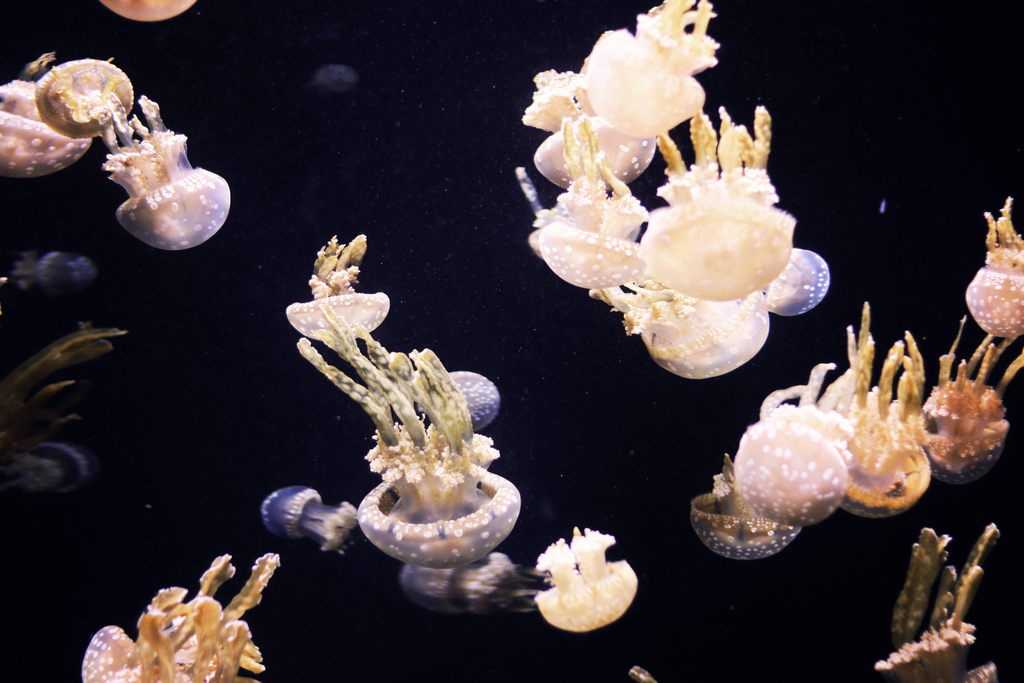Jellyfish: (259, 234, 636, 634), (510, 0, 832, 383), (691, 196, 1023, 560), (83, 551, 284, 682), (100, 118, 224, 251), (0, 78, 91, 184)
